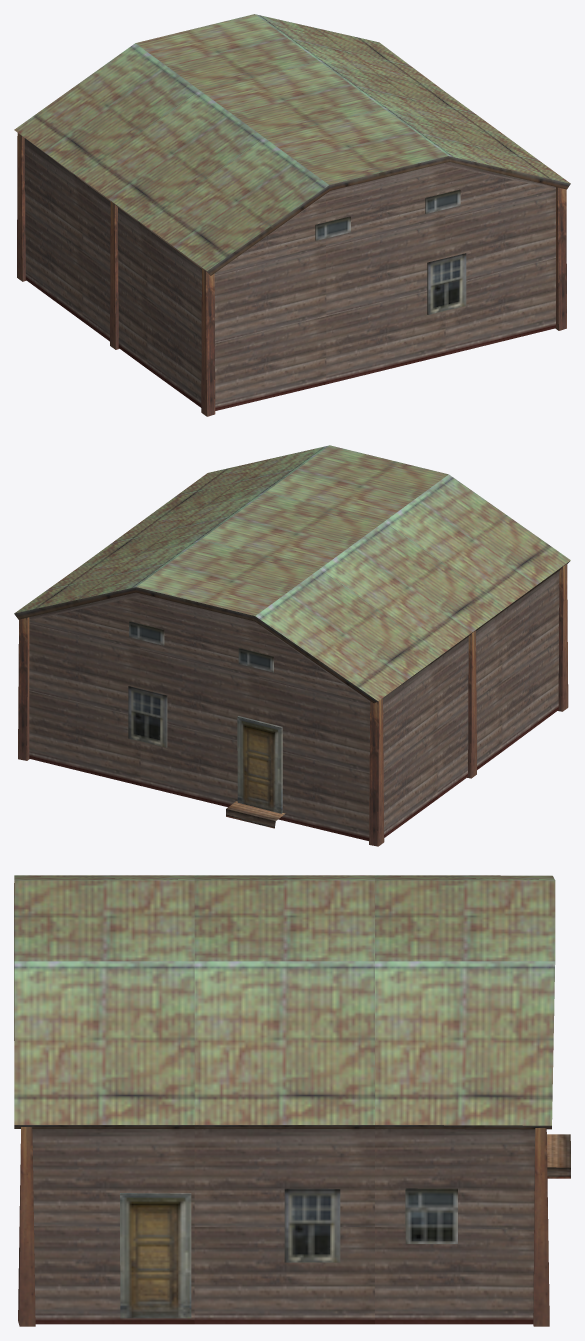
Rendered from ranch_b.glb.
3 renders of one model, top to bottom at view 1: azimuth 30°, elevation 25°; view 2: azimuth 150°, elevation 25°; view 3: azimuth 270°, elevation 25°, orthographic. The views are drawn at different scales.
Parts seen in each view (by area): view 1: house02_elements_0; view 2: house02_elements_0; view 3: house02_elements_0.
Part boxes in pixels (x1,y1,x2,y2): house02_elements_0: [14, 14, 570, 416]; house02_elements_0: [14, 445, 570, 846]; house02_elements_0: [14, 875, 570, 1326].
Bounding box in the file's own units: 1.91 × 1.02 × 1.81.
Materials: 1 (1 with a texture image).
